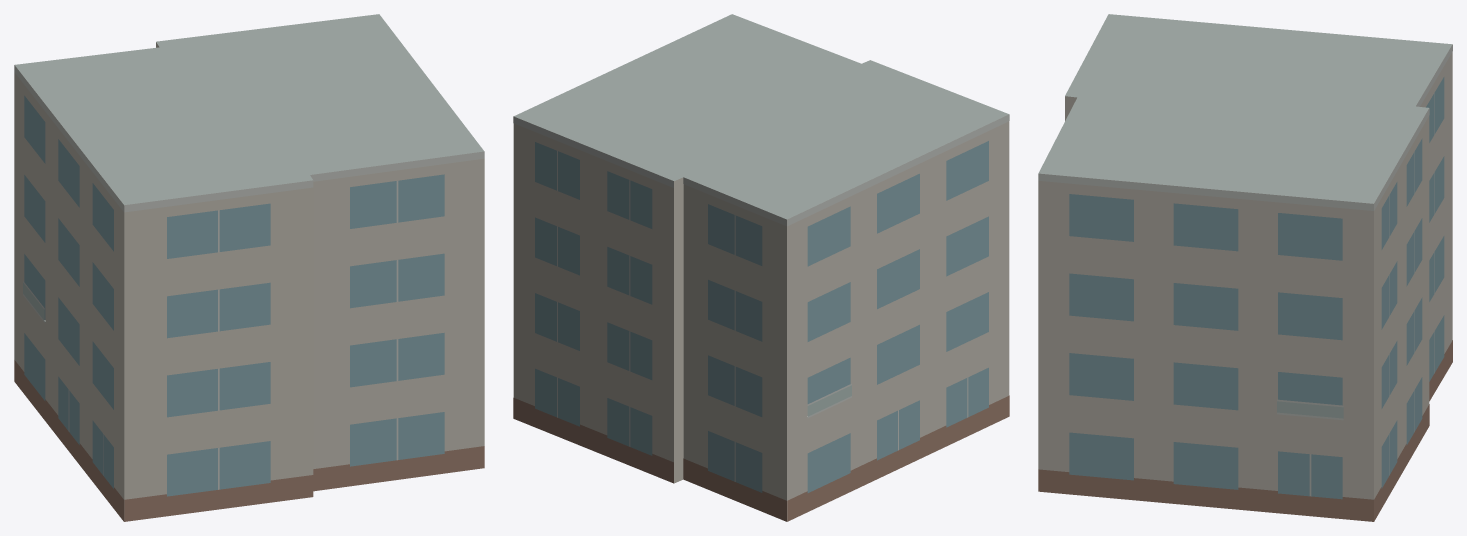
The model's file is survey-upis-32702668.glb.
3 renders of one model, left to right at view 1: azimuth 30°, elevation 25°; view 2: azimuth 150°, elevation 25°; view 3: azimuth 270°, elevation 25°, orthographic. The views are drawn at different scales.
Parts seen in each view (by area): view 1: survey-upis-32702668.tmp; view 2: survey-upis-32702668.tmp; view 3: survey-upis-32702668.tmp.
Boxes of the visible parts, x1=… form: survey-upis-32702668.tmp: x1=14, y1=14, x2=484, y2=521; survey-upis-32702668.tmp: x1=513, y1=14, x2=1009, y2=521; survey-upis-32702668.tmp: x1=1038, y1=14, x2=1452, y2=521.
Bounding box in the file's own units: 13.71 × 10.7 × 12.65.
